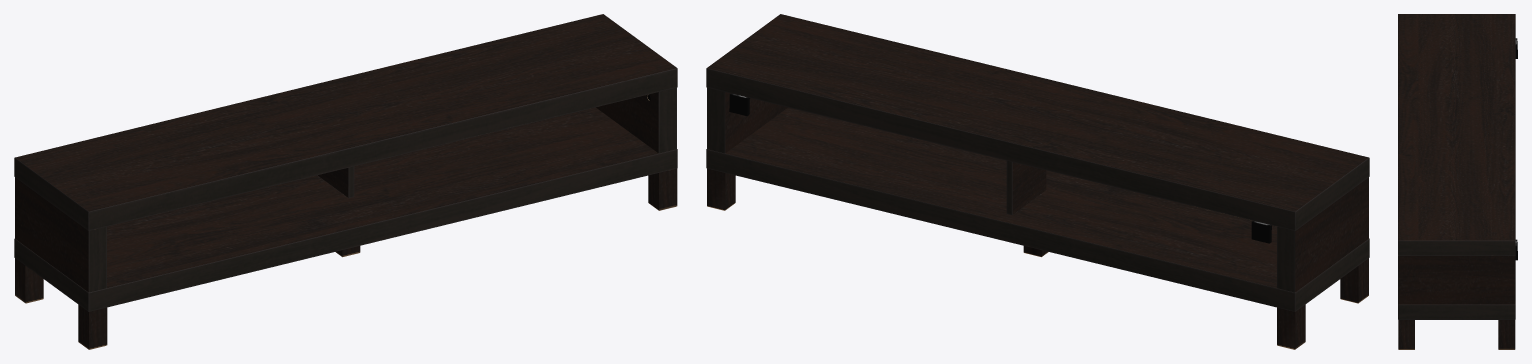
The model's file is 14 - LACK TV bench - black-brown 160x35x36 cm.glb.
3 views of the same model, side by side, from view 1: azimuth 30°, elevation 25°; view 2: azimuth 150°, elevation 25°; view 3: azimuth 270°, elevation 25° (orthographic). The views are drawn at different scales.
Visible parts, largest first — view 1: model; view 2: model; view 3: model.
Boxes of the visible parts, left/top/right/bottom form: model: left=14, top=14, right=677, bottom=349; model: left=706, top=14, right=1369, bottom=349; model: left=1398, top=14, right=1517, bottom=349.
Size of the model in its own units: 1.6 by 0.3601 by 0.357.
1 material, 1 textured.
